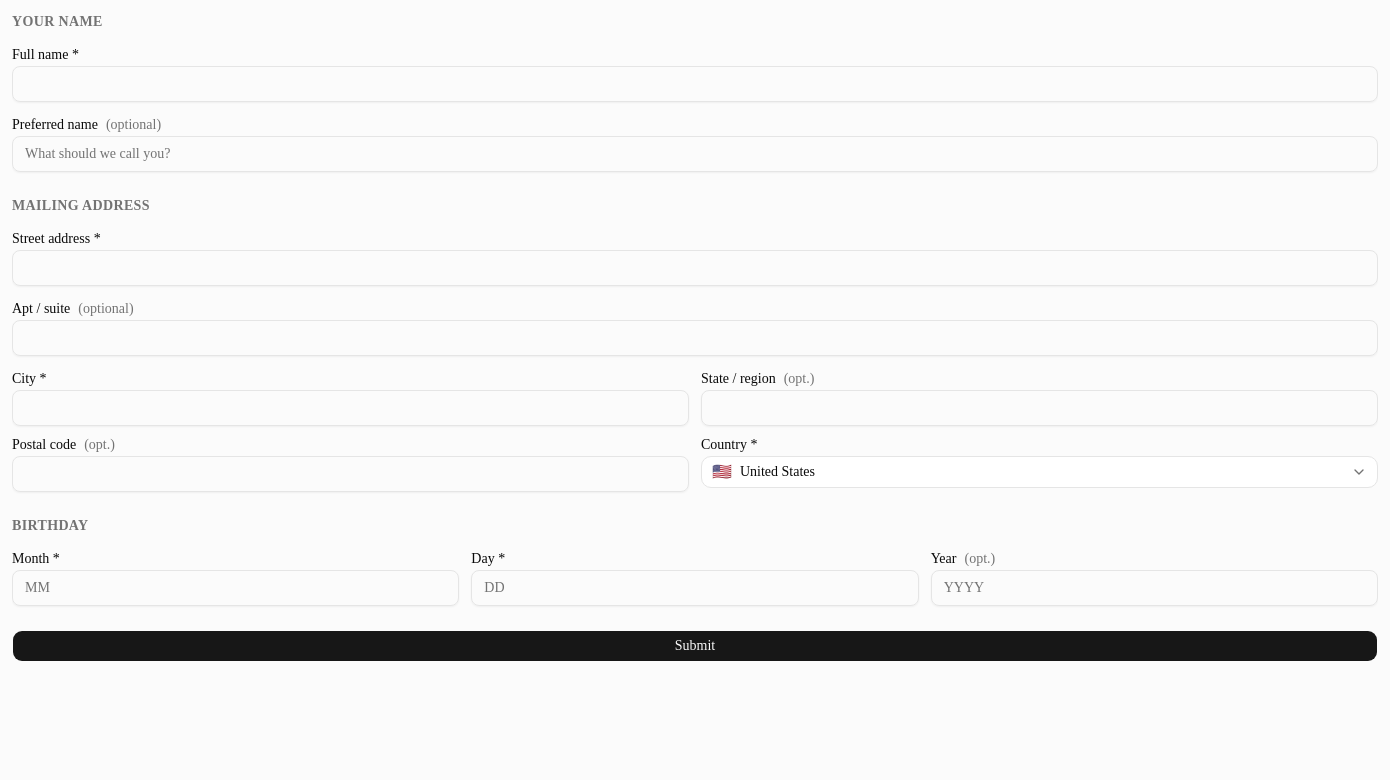
Scenario: SelfServeForm › shows validation errors when required fields are empty
The image size is (1390, 780).
Step 1. Click the button "Submit" → point(695, 646), box [12, 630, 1378, 662]
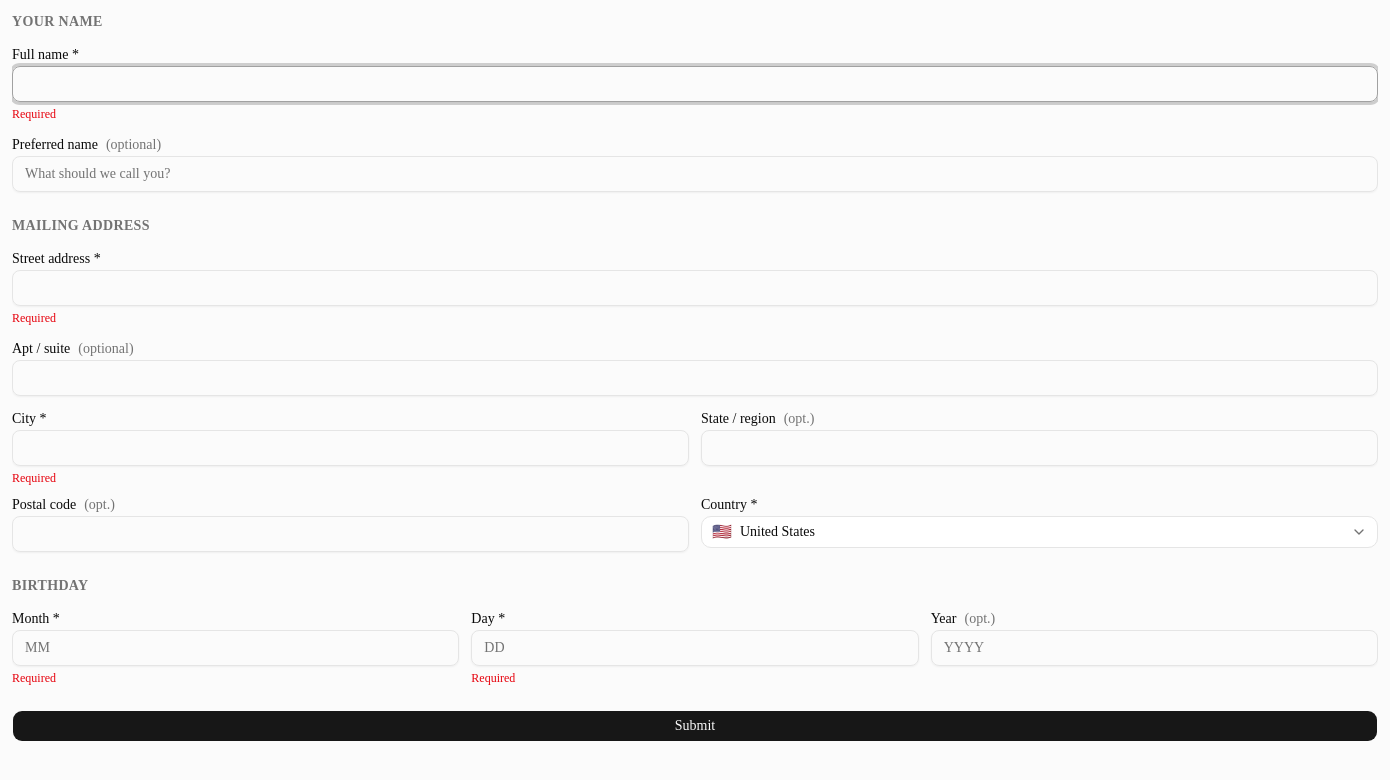
Check: the text "Required" below "Full name *" is shown, box [12, 107, 56, 121]
